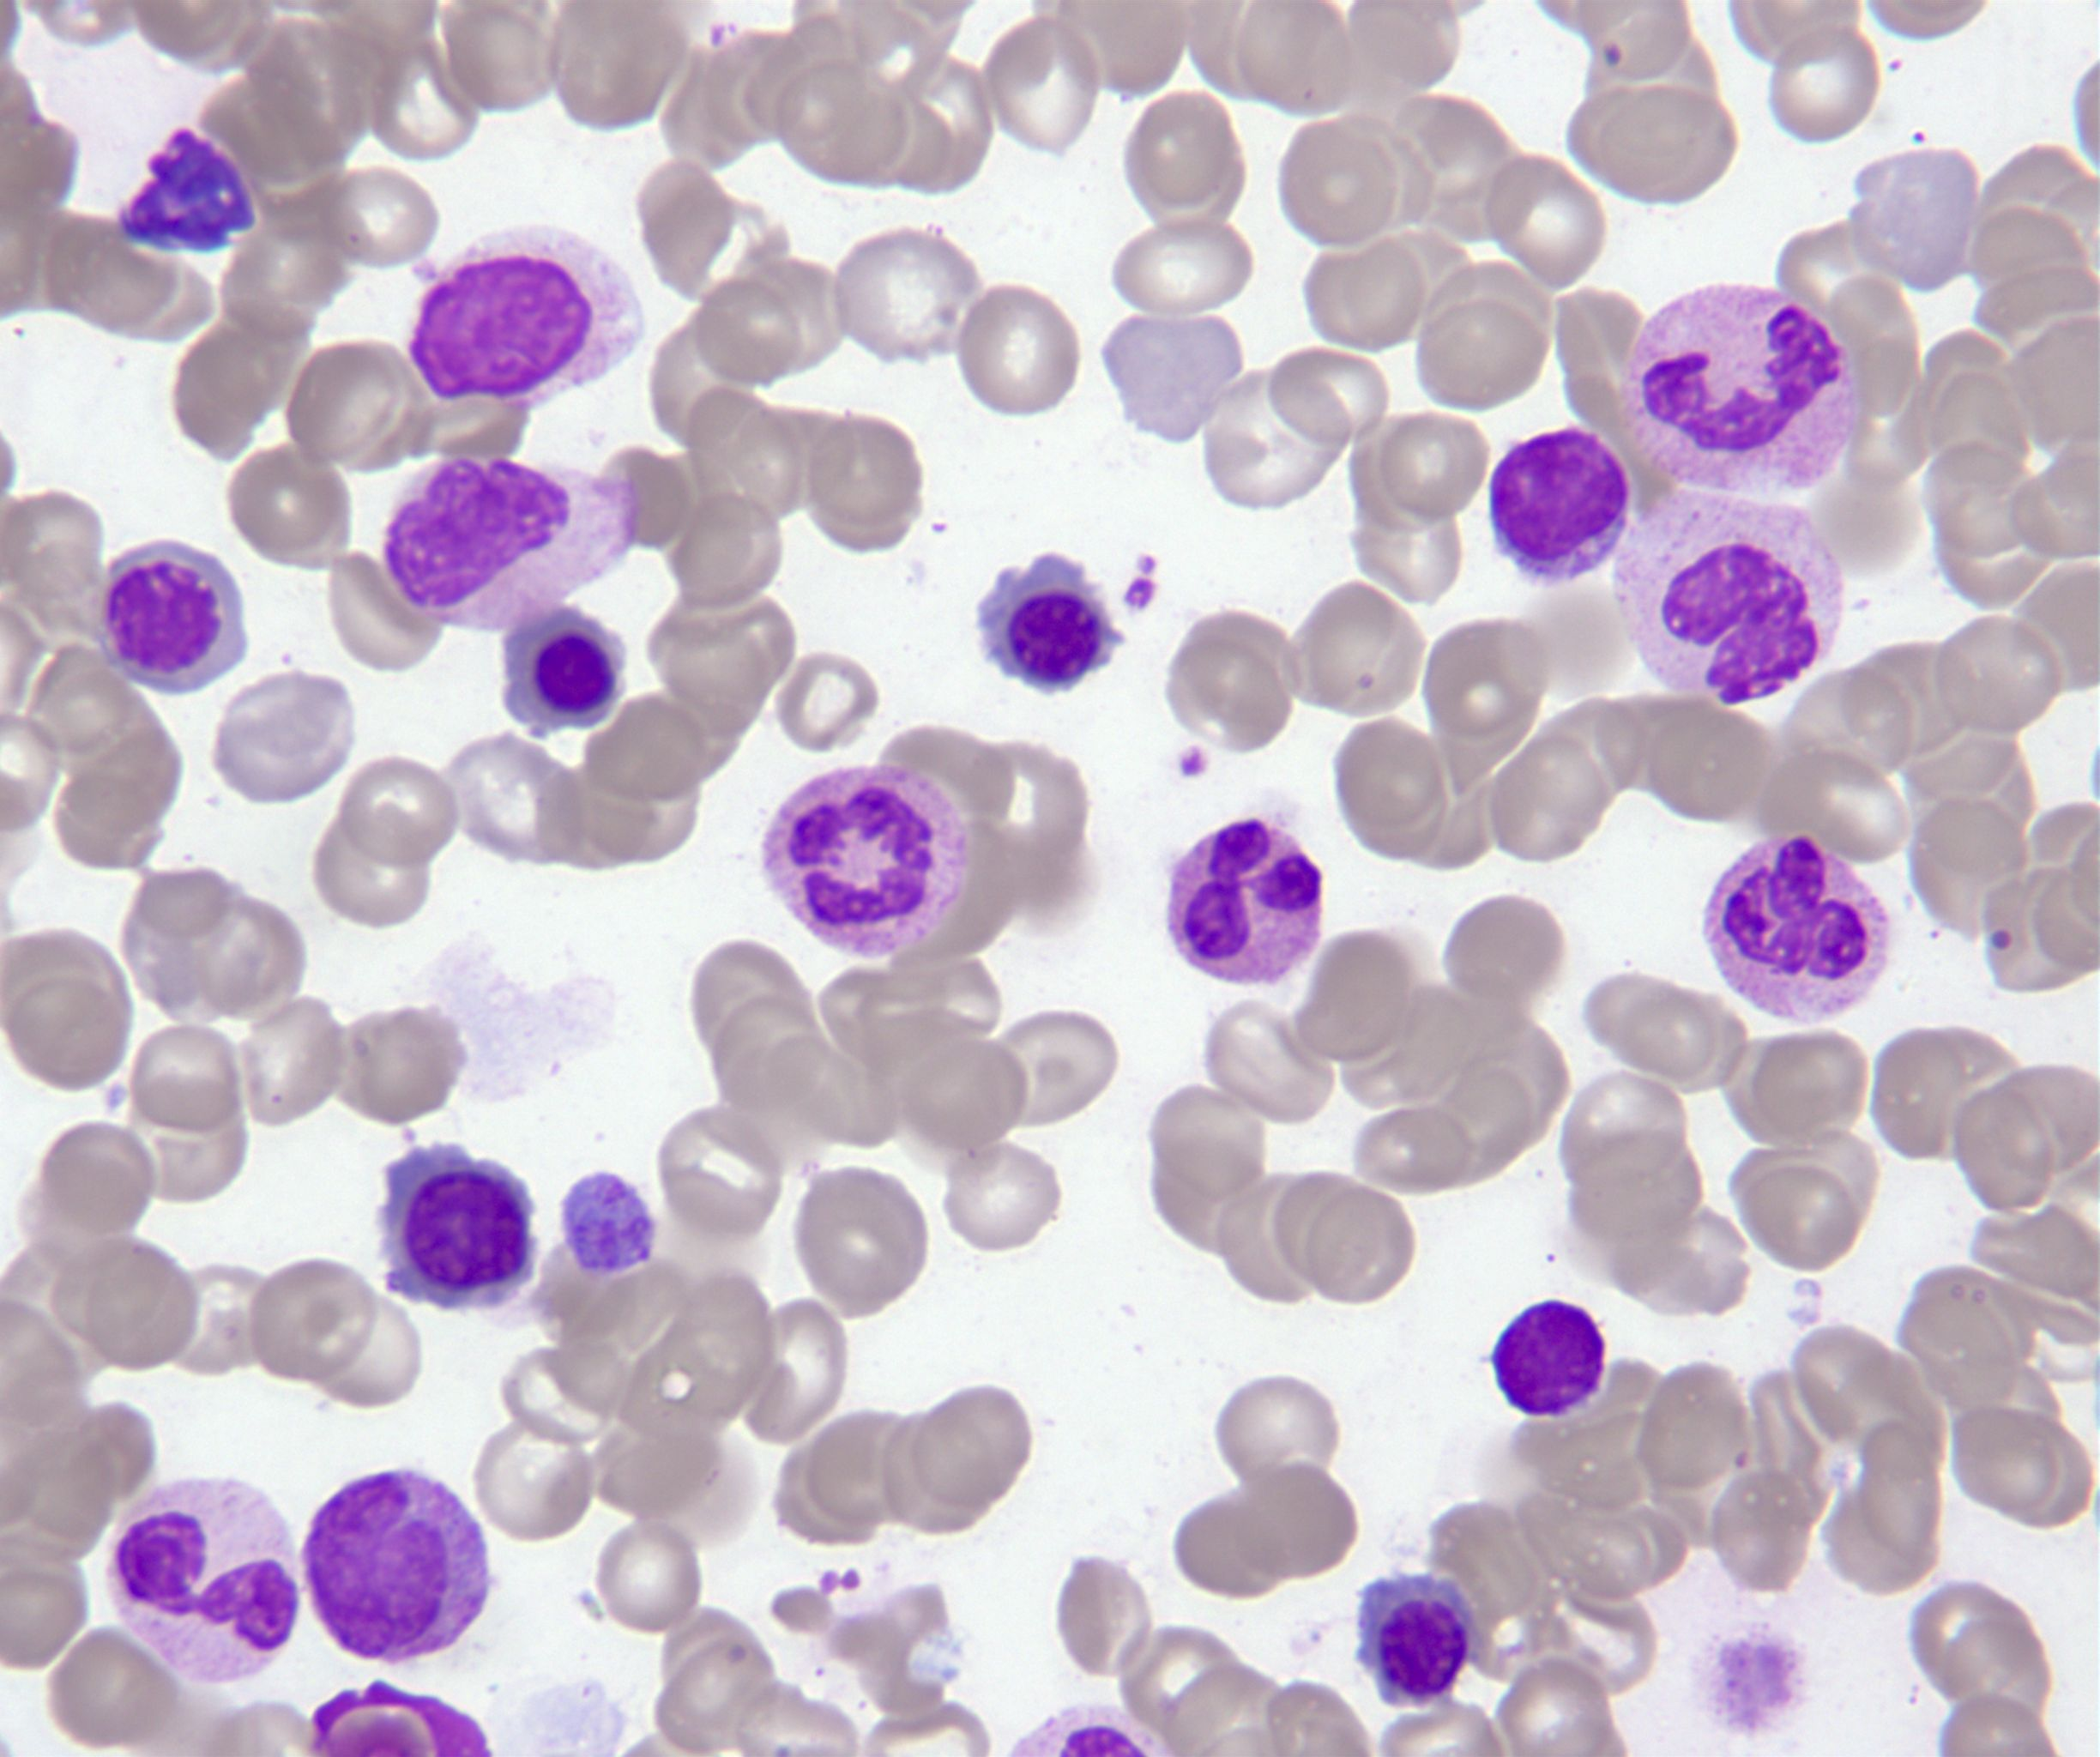23: (370, 1138, 548, 1317), (91, 532, 253, 701), (970, 548, 1135, 703), (1352, 1567, 1479, 1715)
24: (494, 597, 633, 749)
3: (377, 452, 659, 640)
32: (1479, 422, 1638, 593), (1486, 1291, 1612, 1424)
42: (298, 1466, 495, 1672)
5: (1606, 483, 1859, 714), (1615, 279, 1866, 502)
6: (98, 1471, 307, 1691), (759, 761, 977, 967), (1694, 824, 1899, 1035), (1162, 815, 1329, 995)
x: (401, 218, 656, 414)
